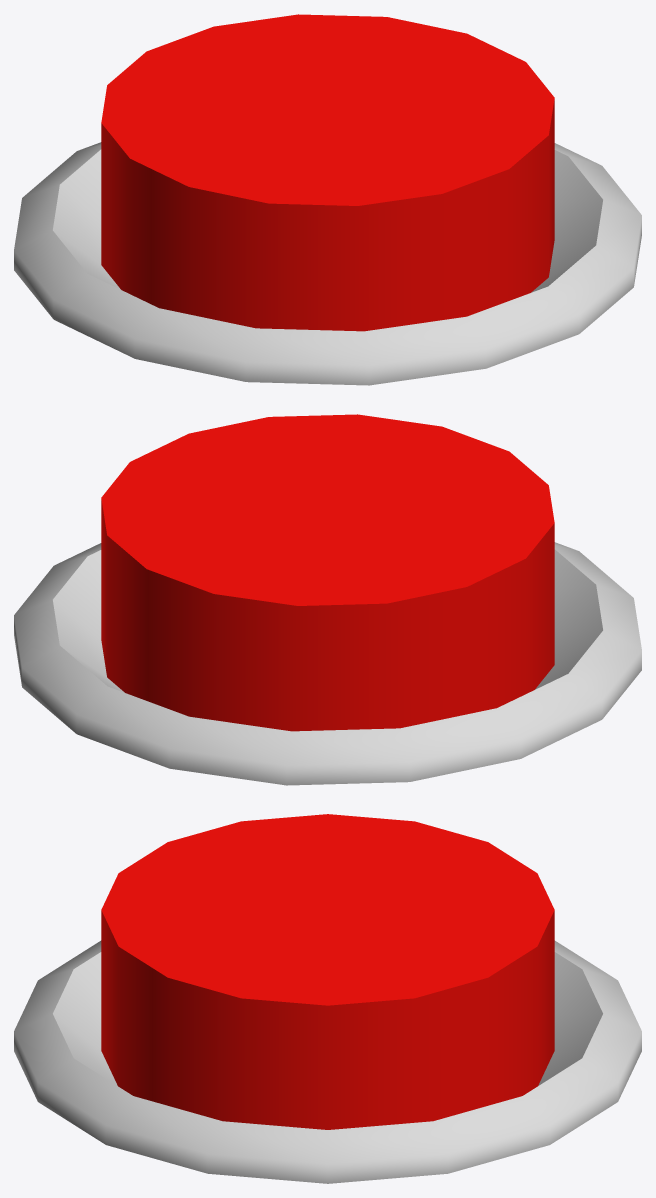
File: button_red.fbx
3 views of the same model, one above another, from view 1: azimuth 30°, elevation 25°; view 2: azimuth 150°, elevation 25°; view 3: azimuth 270°, elevation 25° (orthographic).
Parts seen in each view (by area): view 1: button_red.002, button_red; view 2: button_red.002, button_red; view 3: button_red.002, button_red.
Part boxes in pixels (x1,y1,x2,y2): button_red.002: (101,14,554,331); button_red: (14,142,641,385); button_red.002: (101,414,554,731); button_red: (14,542,641,785); button_red.002: (101,814,554,1129); button_red: (14,940,641,1183).
Bounding box in the file's own units: 0.2708 × 0.0672 × 0.2708.
